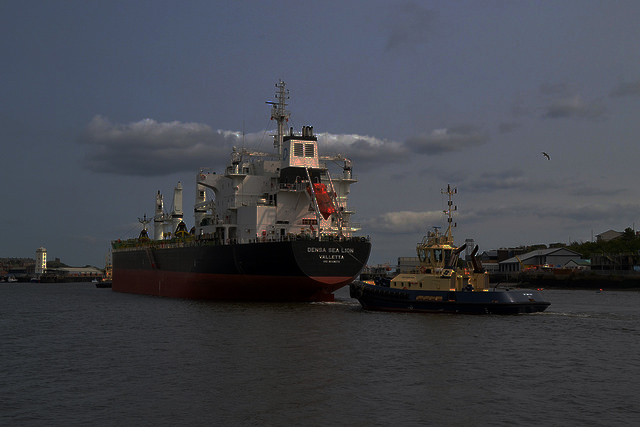bulk carrier: (114, 80, 371, 309)
tug_boat: (360, 174, 549, 315)
